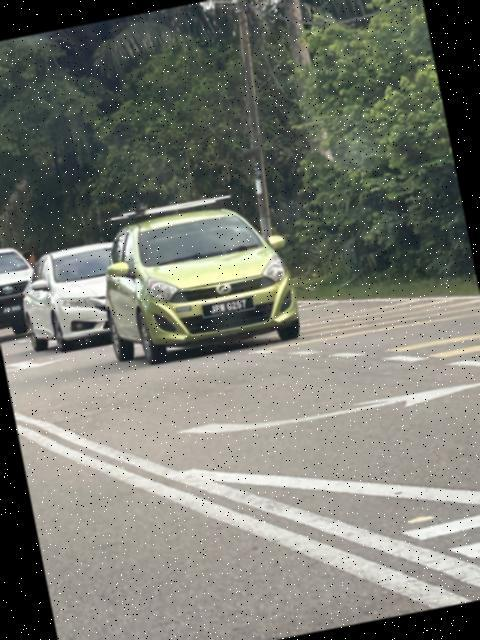JRW8257: (201, 294, 255, 320)
License_Plate: (201, 294, 255, 320)
car: (83, 179, 308, 375), (12, 237, 144, 354), (1, 239, 53, 340)
